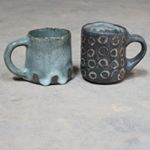cups: (79, 19, 150, 87), (1, 24, 75, 87)
